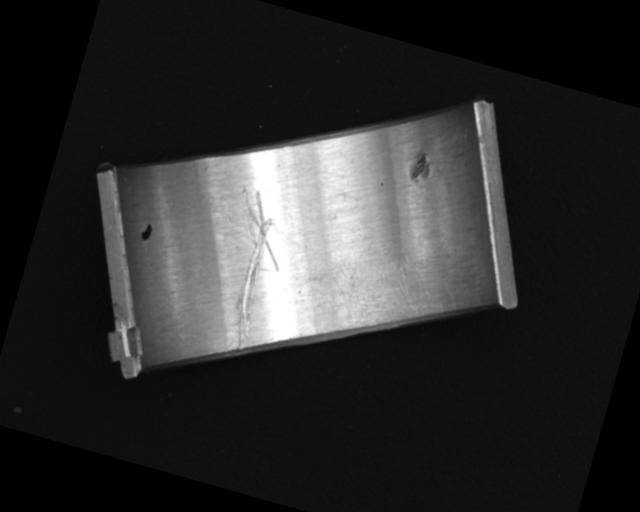blot: (137, 219, 155, 244)
bruise: (406, 147, 436, 186)
nick: (201, 187, 301, 357)
scratch: (318, 240, 465, 355)
